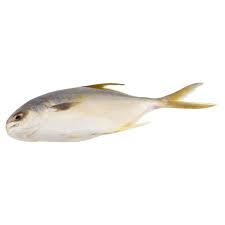Ikan Bawal: (6, 70, 220, 159)
